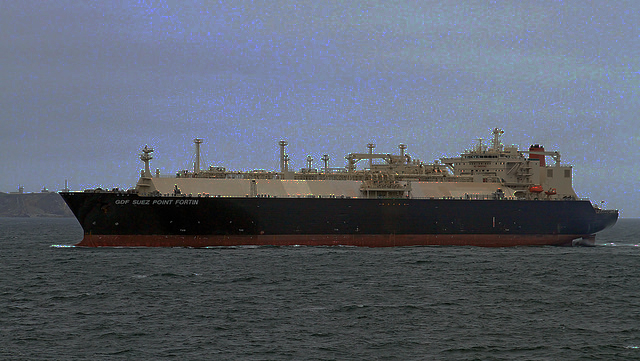LNG_ship: (59, 129, 621, 244)
